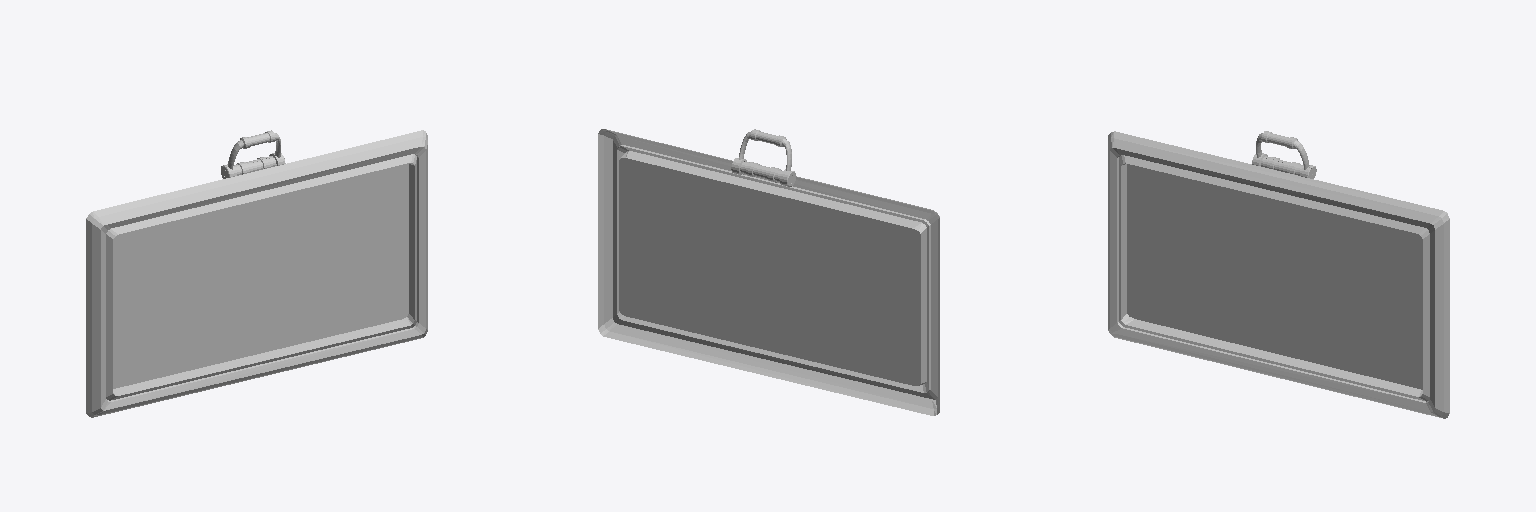
Rendered from ConsolePanel.obj.
3 views of the same model, side by side, from view 1: azimuth 30°, elevation 25°; view 2: azimuth 150°, elevation 25°; view 3: azimuth 330°, elevation 25° (orthographic).
Visible parts, largest first — view 1: ConsolePanel, ConsolePanel HandleConsolePanel; view 2: ConsolePanel, ConsolePanel HandleConsolePanel; view 3: ConsolePanel, ConsolePanel HandleConsolePanel.
Part boxes in pixels (left/top/right/bottom): ConsolePanel: left=86, top=130, right=427, bottom=417; ConsolePanel HandleConsolePanel: left=221, top=130, right=285, bottom=178; ConsolePanel: left=598, top=129, right=939, bottom=415; ConsolePanel HandleConsolePanel: left=731, top=129, right=795, bottom=186; ConsolePanel: left=1108, top=131, right=1449, bottom=418; ConsolePanel HandleConsolePanel: left=1252, top=131, right=1316, bottom=178.
Size of the model in its own units: 288 by 197 by 23.93.